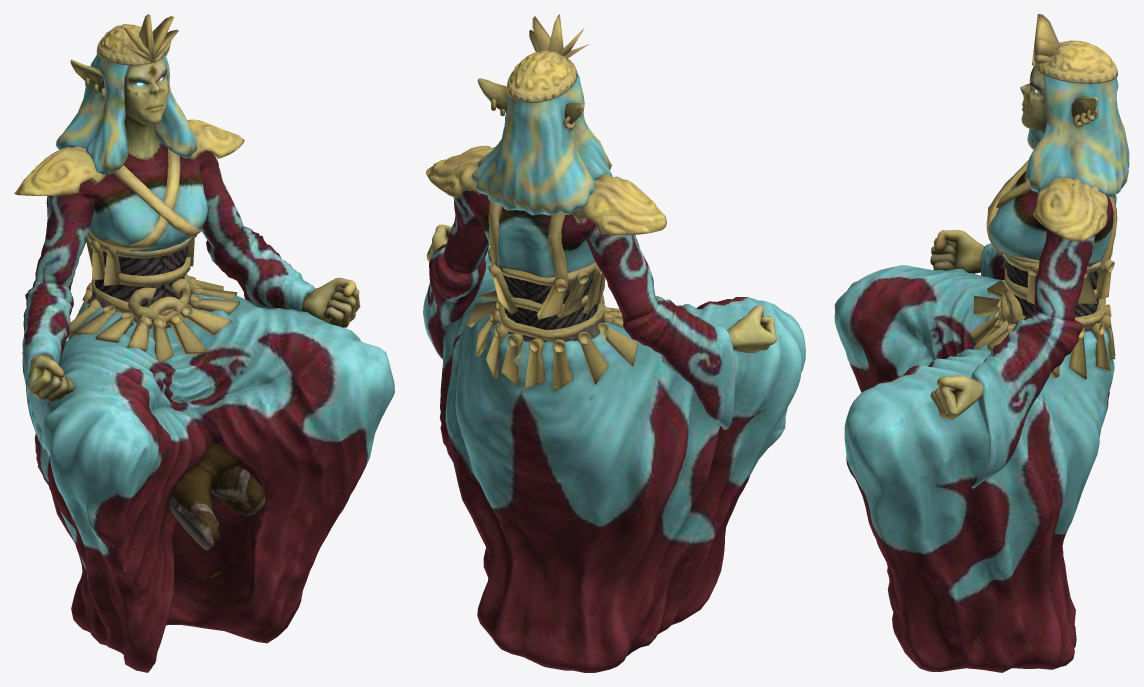
File: MZ4250 - Githzerai Psion Female_2025.glb
3 renders of one model, left to right at view 1: azimuth 30°, elevation 25°; view 2: azimuth 150°, elevation 25°; view 3: azimuth 270°, elevation 25°, orthographic. The views are drawn at different scales.
Visible parts, largest first — view 1: Body.002; view 2: Body.002; view 3: Body.002.
Boxes of the visible parts, bbox=[...] form: Body.002: bbox=[14, 14, 394, 672]; Body.002: bbox=[423, 14, 805, 672]; Body.002: bbox=[834, 14, 1129, 672].
Size of the model in its own units: 50.43 by 89.4 by 37.53.
Materials: 1 (1 with a texture image).
